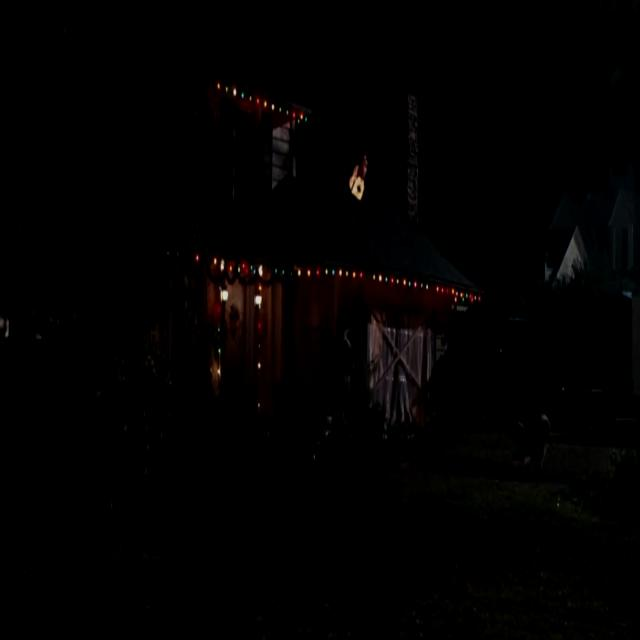Dog: (492, 384, 556, 499)
